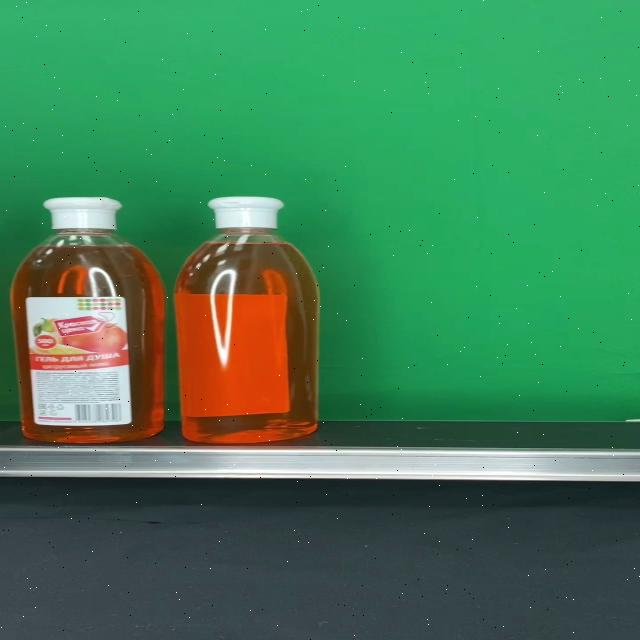Bottle: (10, 196, 166, 444), (174, 196, 320, 444)
Cap: (44, 197, 124, 230), (207, 196, 286, 228)
